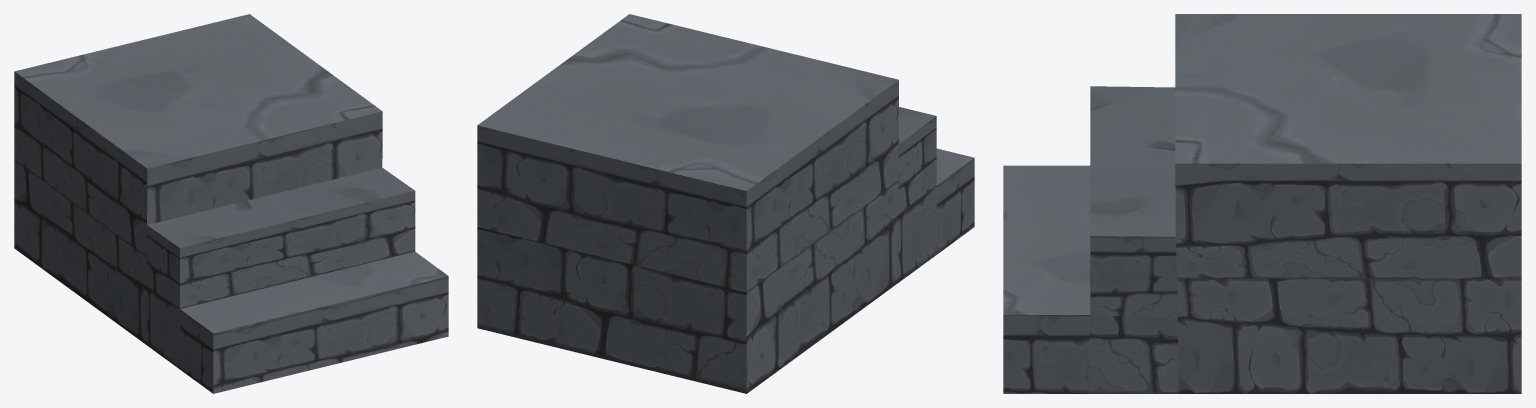
The model's file is Tangga 2.fbx.
3 renders of one model, left to right at view 1: azimuth 30°, elevation 25°; view 2: azimuth 150°, elevation 25°; view 3: azimuth 270°, elevation 25°, orthographic. The views are drawn at different scales.
Parts seen in each view (by area): view 1: Plane.001; view 2: Plane.001; view 3: Plane.001.
Boxes of the visible parts, box(x1,y1,x2,y2) form: Plane.001: box(14, 14, 448, 393); Plane.001: box(477, 14, 974, 393); Plane.001: box(1003, 14, 1521, 393).
Bounding box in the file's own units: 82.02 × 58.94 × 120.
